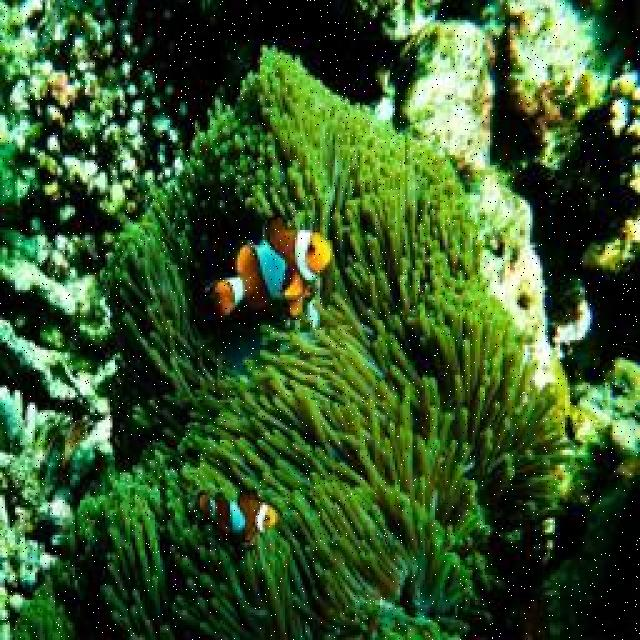fish: (206, 217, 332, 319), (198, 489, 277, 548)
reefs: (15, 44, 583, 638)
